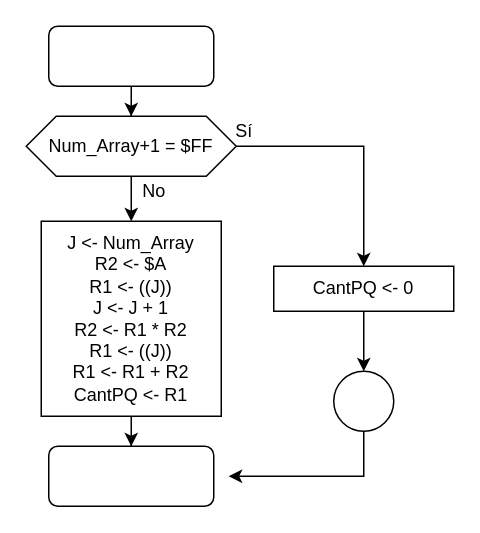
Some shapes in this 480 by 533 pixel diagram are drawn without their labels. Each missing label, with the box of its shape:
BCD_BIN: (47, 25, 214, 86)
Retorno: (47, 445, 214, 506)
